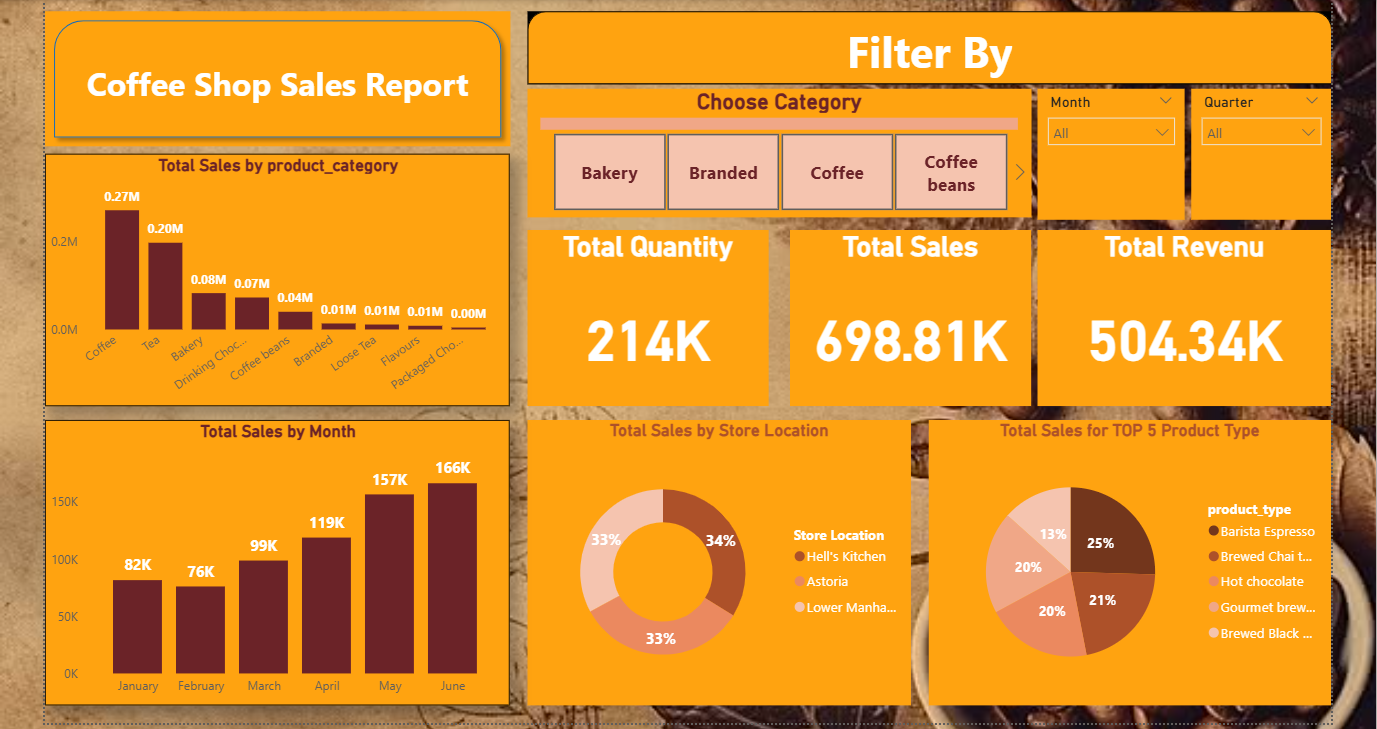

This screenshot's page, from the dashboard's own definition file:
{"tool":"powerbi","page":{"name":"Page 1","canvas":[1280,720],"ordinal":0},"visuals":[{"type":"shape","box":[0,10.6,463.1,134.7],"z":0},{"type":"slicer","title":"Choose Category","fields":{"Values":["tbl_data.product_category"]},"box":[480.2,88.3,501.3,128.1],"z":1000},{"type":"slicer","fields":{"Values":["tbl_data.transaction_date.Variation.Date Hierarchy.Month"]},"box":[987.7,88.3,146.8,130.6],"z":2000},{"type":"slicer","fields":{"Values":["tbl_data.transaction_date.Variation.Date Hierarchy.Quarter"]},"box":[1140.7,88.3,139.3,130.6],"z":3000},{"type":"shape","title":"Filter By","box":[479.7,10.6,800.6,72.6],"z":4000},{"type":"card","title":"Total Sales","fields":{"Values":["Sum(tbl_data.Total Sales)"]},"box":[741.4,228.9,240.1,175.4],"z":5000},{"type":"card","title":"Total Quantity","fields":{"Values":["Sum(tbl_data.transaction_qty)"]},"box":[480.2,228.9,240.1,175.4],"z":6000},{"type":"card","title":"Total Revenu","fields":{"Values":["Sum(Total_Revenu.Total_Revenu)"]},"box":[987.7,228.9,292.3,175.4],"z":7000},{"type":"columnChart","title":"Total Sales by product_category","fields":{"Y":["Sum(tbl_data.Total Sales)"],"Category":["tbl_data.product_category"]},"box":[0,153,462.8,251.3],"z":8000},{"type":"donutChart","title":"Total Sales by Store Location","fields":{"Category":["tbl_data.store_location"],"Y":["Sum(tbl_data.Total Sales)"]},"box":[480.2,418,381.9,283.6],"z":9000},{"type":"pieChart","title":"Total Sales for TOP 5 Product Type ","fields":{"Y":["Sum(tbl_data.Total Sales)"],"Category":["tbl_data.product_type"]},"box":[879.5,418,400.6,283.6],"z":10000},{"type":"columnChart","title":"Total Sales by Month","fields":{"Y":["Sum(tbl_data.Total Sales)"],"Category":["tbl_data.transaction_date.Variation.Date Hierarchy.Month"]},"box":[0,418,462.8,283.6],"z":10001}]}

Visuals, with their boxes in screenshot pixels (x1, y1, x2, y2):
shape: 50,11,512,145
"Choose Category" slicer: 529,88,1029,216
slicer - tbl_data.transaction_date.Variation.Date Hierarchy.Month: 1035,88,1181,218
slicer - tbl_data.transaction_date.Variation.Date Hierarchy.Quarter: 1188,88,1326,218
"Filter By" shape: 528,11,1327,83
"Total Sales" card: 789,228,1029,403
"Total Quantity" card: 529,228,768,403
"Total Revenu" card: 1035,228,1326,403
"Total Sales by product_category" columnChart: 50,153,512,403
"Total Sales by Store Location" donutChart: 529,417,910,700
"Total Sales for TOP 5 Product Type " pieChart: 927,417,1327,700
"Total Sales by Month" columnChart: 50,417,512,700
